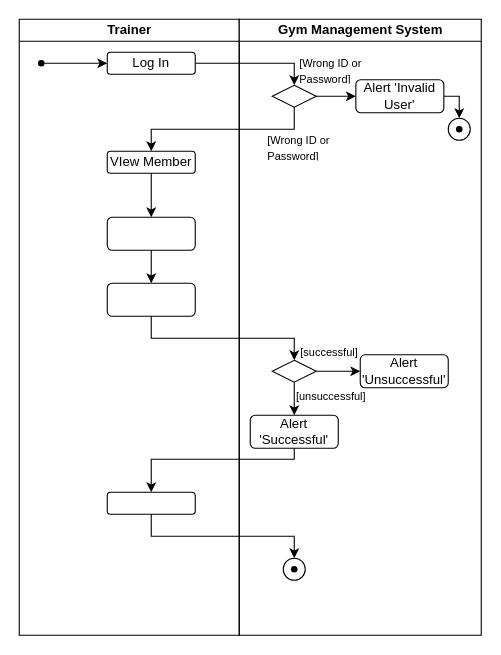
Some shapes in this 501 by 655 pixel diagram are drawn without their labels. The shapes that lost their labels are listed below. From the top down, each one's centre as x and y in pixels, then its label:
At (150,233): "Mark Attendance".
At (150,299): "Save Attendance".
At (150,502): "Log Out".
